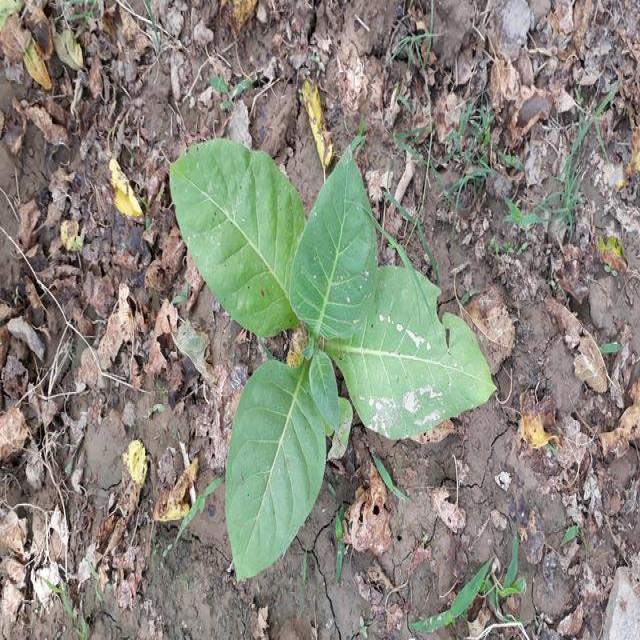crop: (166, 143, 495, 583)
